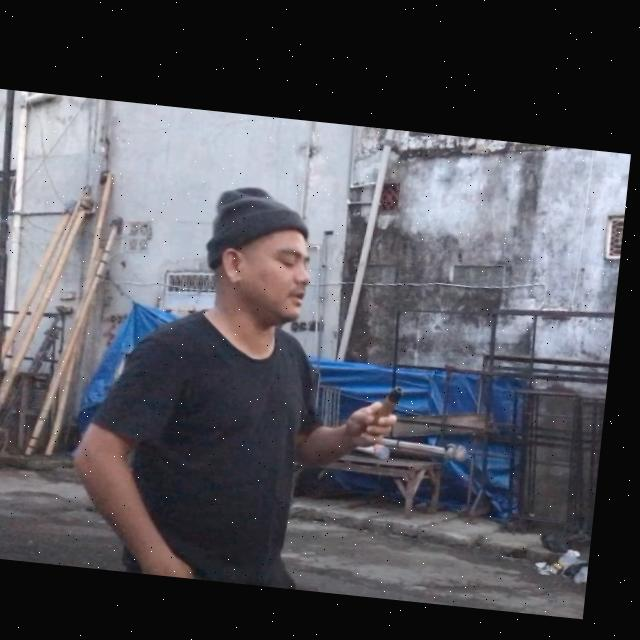vape: (386, 374, 410, 408)
